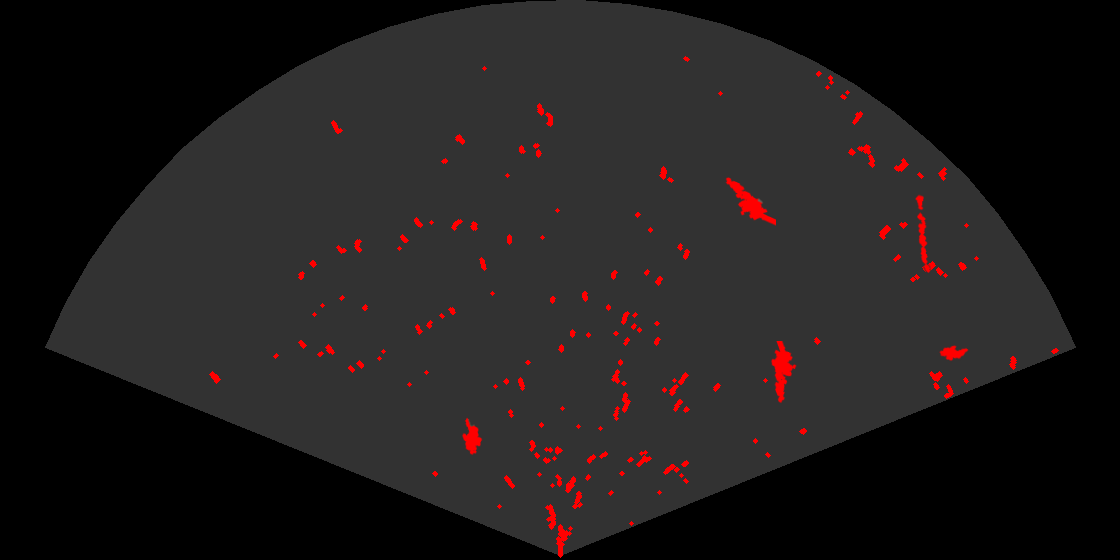AUV: (461, 416, 484, 457), (938, 344, 970, 363)
chain: (914, 194, 932, 275)
frogman: (724, 176, 776, 227), (770, 341, 798, 404)
